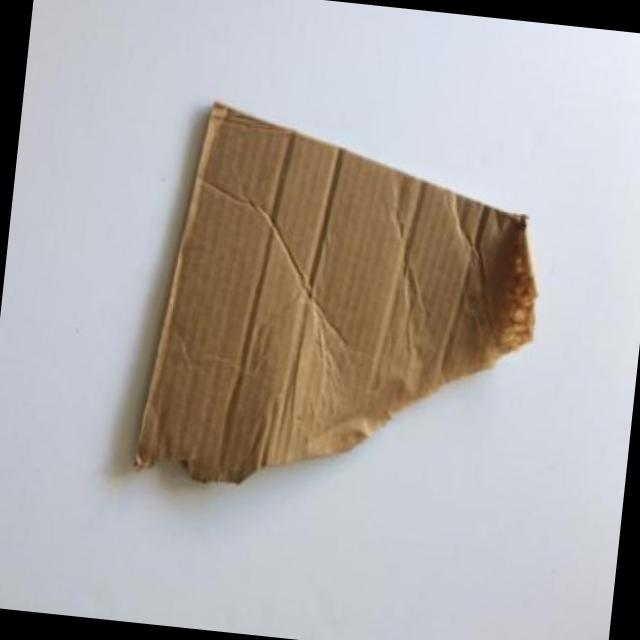cardboard paper: (137, 101, 536, 479)
